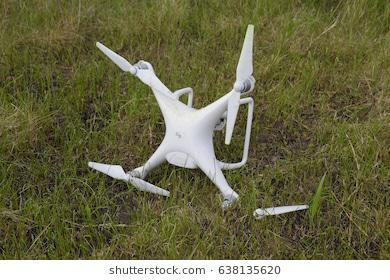drone: (86, 21, 258, 207)
